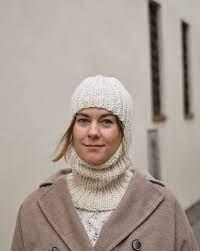cap: (69, 71, 139, 119)
